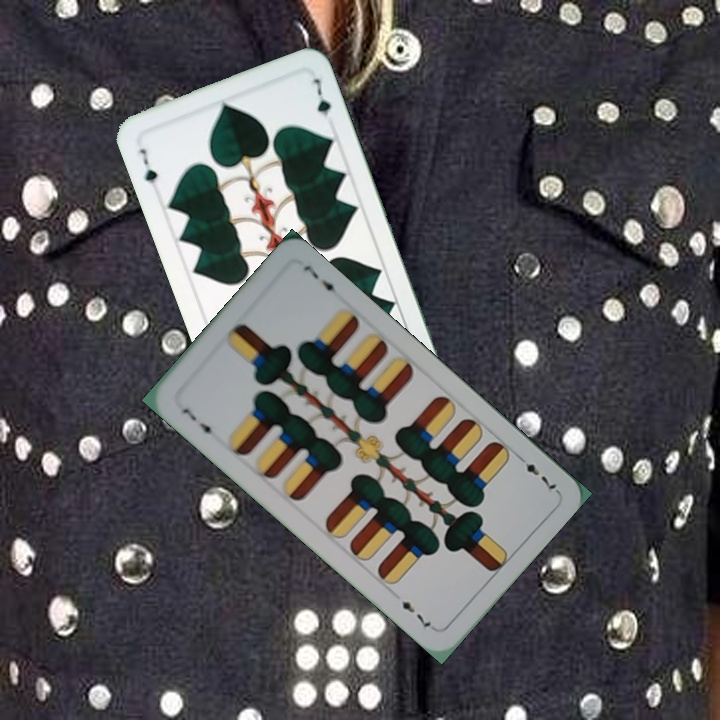E7: (512, 452, 560, 494), (178, 403, 218, 442)
G7: (135, 144, 160, 186)
